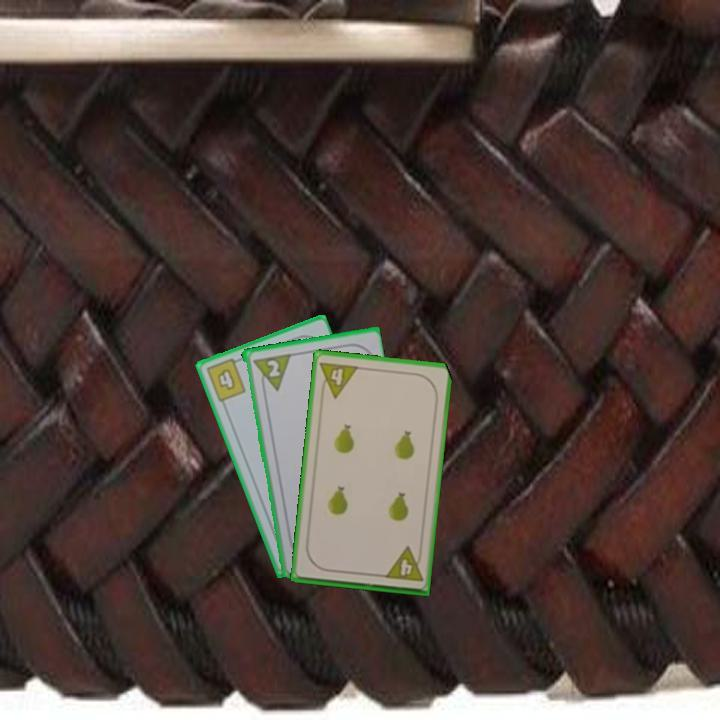2p: (263, 356, 282, 380)
4b: (202, 354, 249, 405)
4p: (317, 358, 361, 401), (381, 544, 426, 584)
